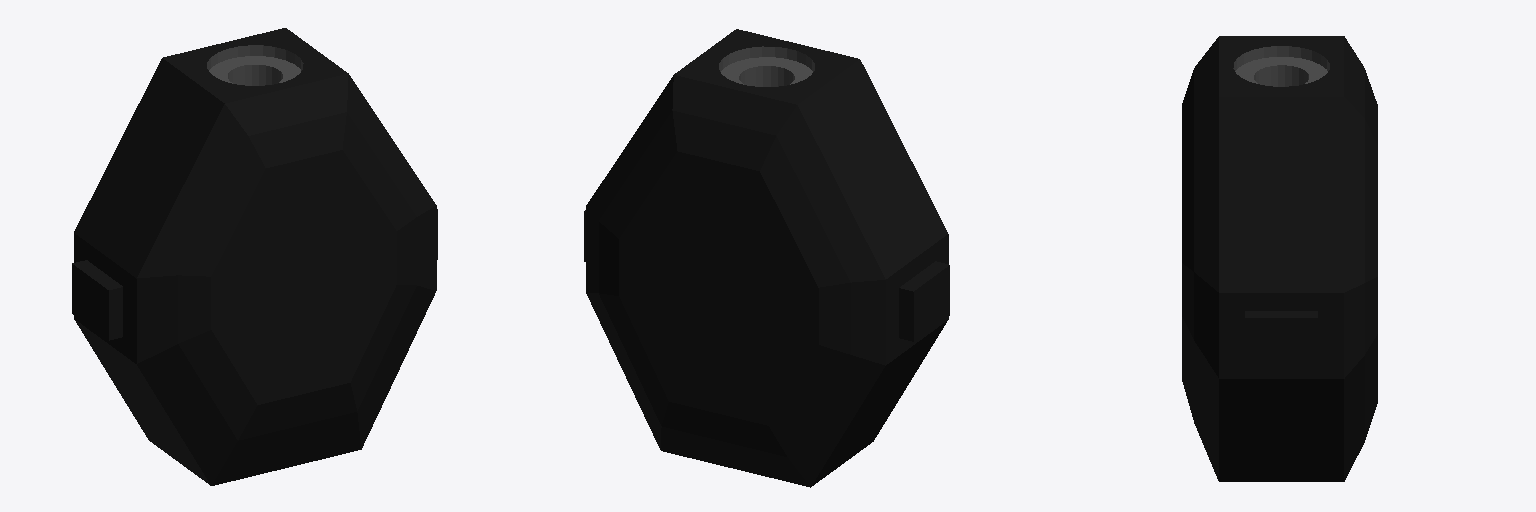
The model's file is MovingHead.obj.
3 views of the same model, side by side, from view 1: azimuth 30°, elevation 25°; view 2: azimuth 150°, elevation 25°; view 3: azimuth 270°, elevation 25° (orthographic).
Parts seen in each view (by area): view 1: Mesh1 Group1 Model; view 2: Mesh1 Group1 Model; view 3: Mesh1 Group1 Model, Mesh2 Group1 Model.
Boxes of the visible parts, box(x1,y1,x2,y2) form: Mesh1 Group1 Model: box(72, 28, 436, 485); Mesh1 Group1 Model: box(586, 29, 949, 487); Mesh1 Group1 Model: box(1182, 36, 1377, 481); Mesh2 Group1 Model: box(1245, 311, 1317, 367).
Size of the model in its own units: 22.07 by 24.28 by 11.37.